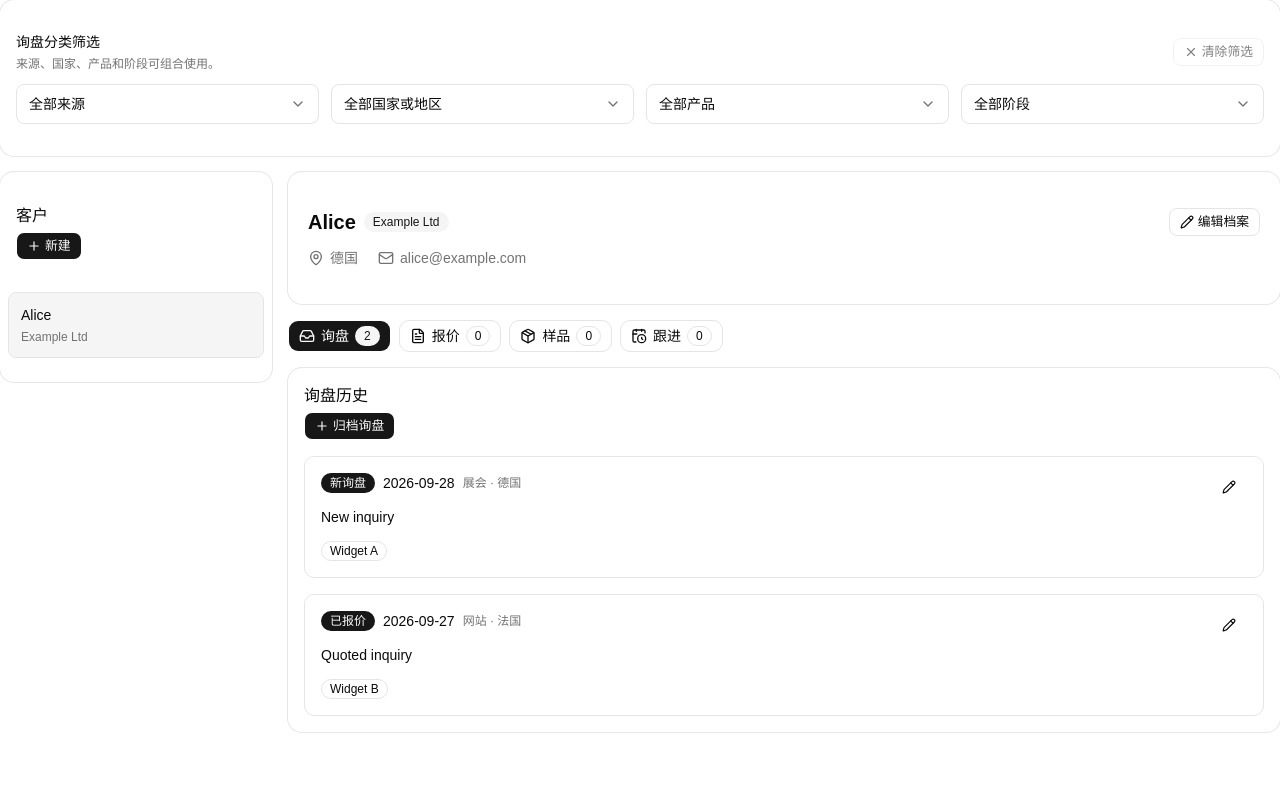
Test: CustomerWorkspace › applies inquiry filters to both the customer list and detail history
The image size is (1280, 800).
Click the dropdown named "按跟进阶段筛选". click: (1002, 104)
box: [961,84,1264,124]
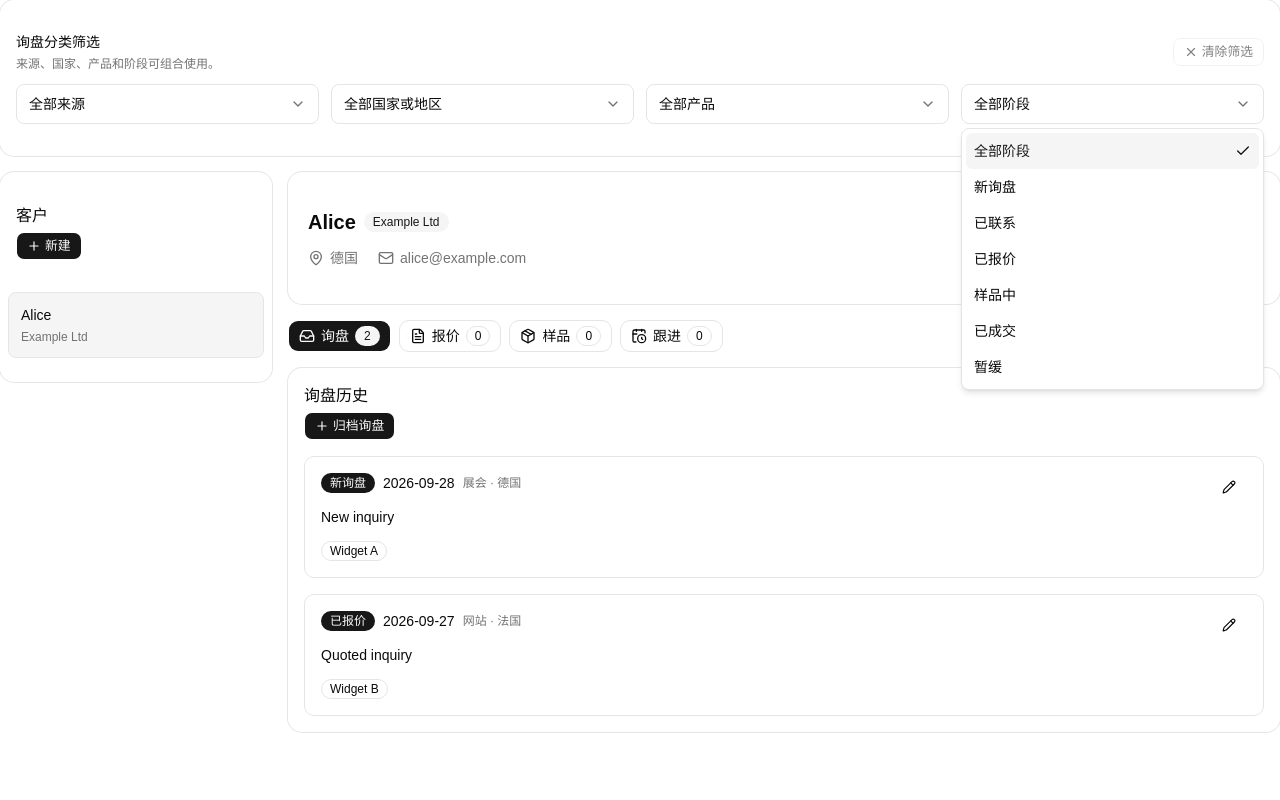
Click the option "已报价". click: (995, 259)
box: [974,251,1016,267]
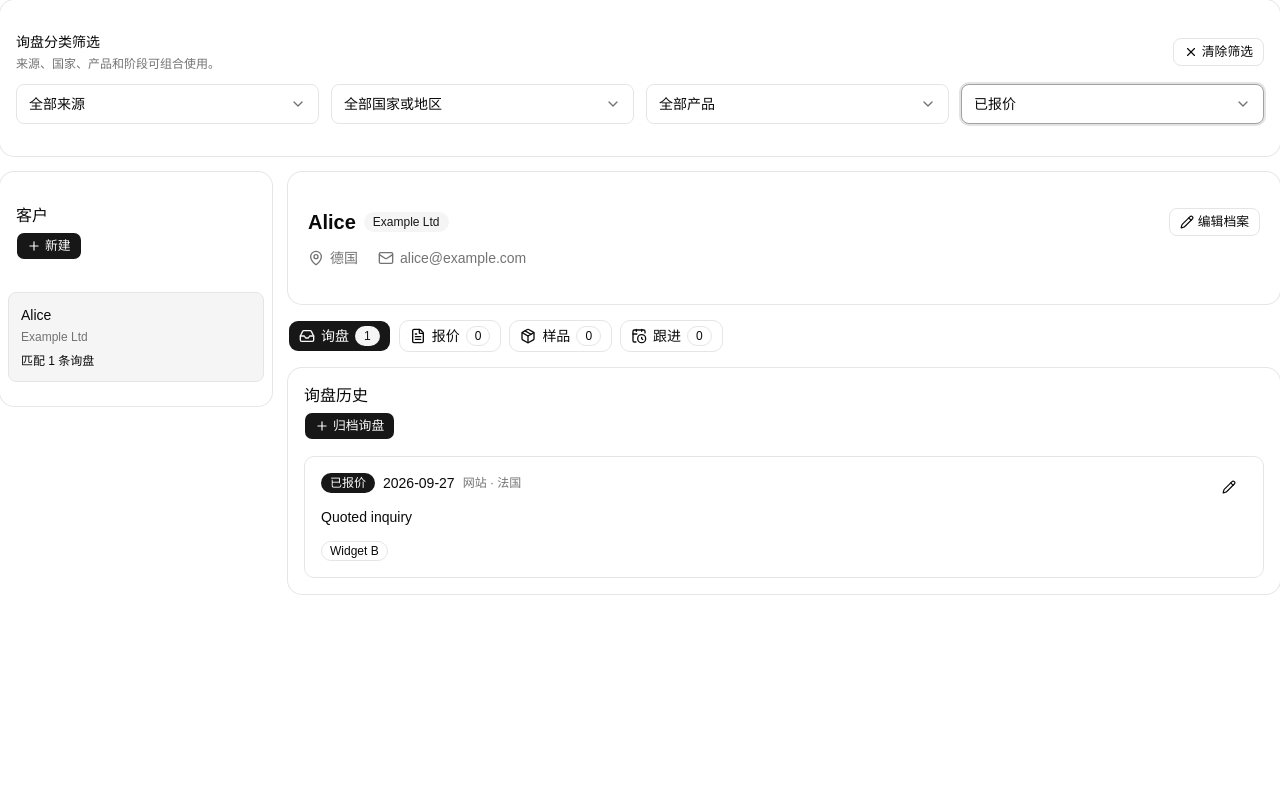
Expected: the text "Quoted inquiry" is shown, [321,509,412,525]
Expected: the text "New inquiry" is gone
